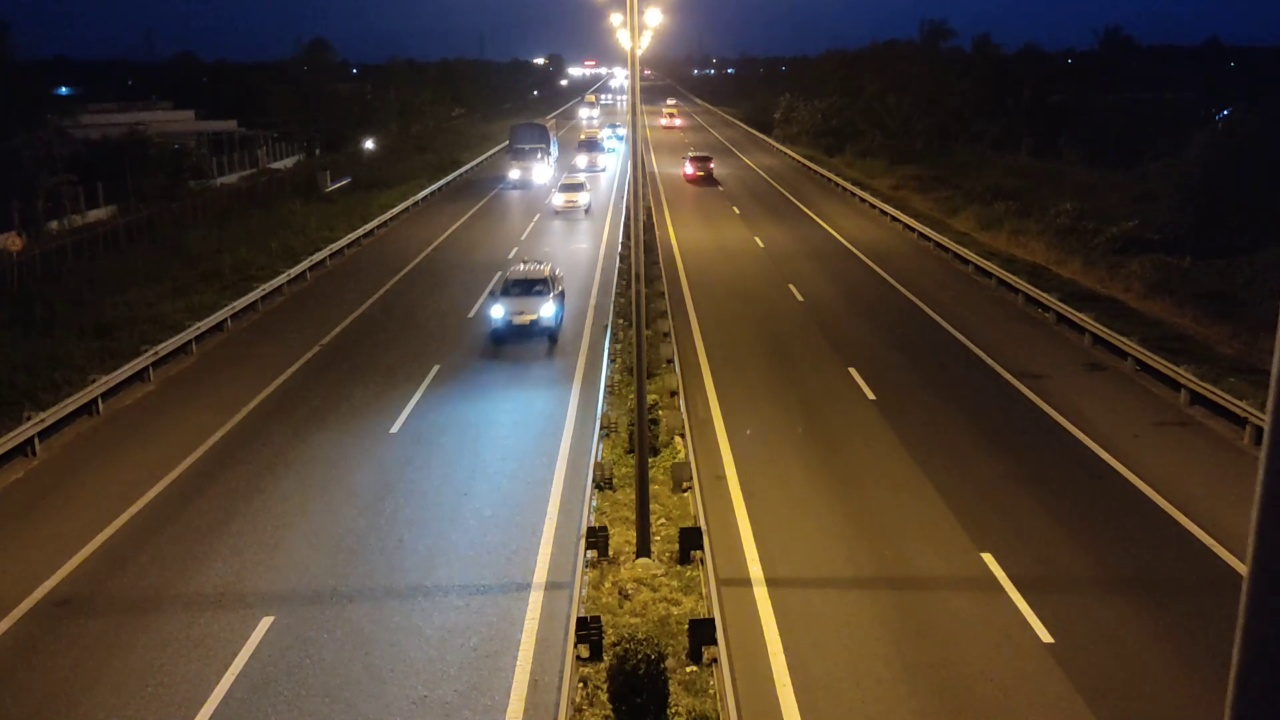car: (486, 259, 567, 347), (549, 173, 593, 213), (681, 151, 717, 184)
